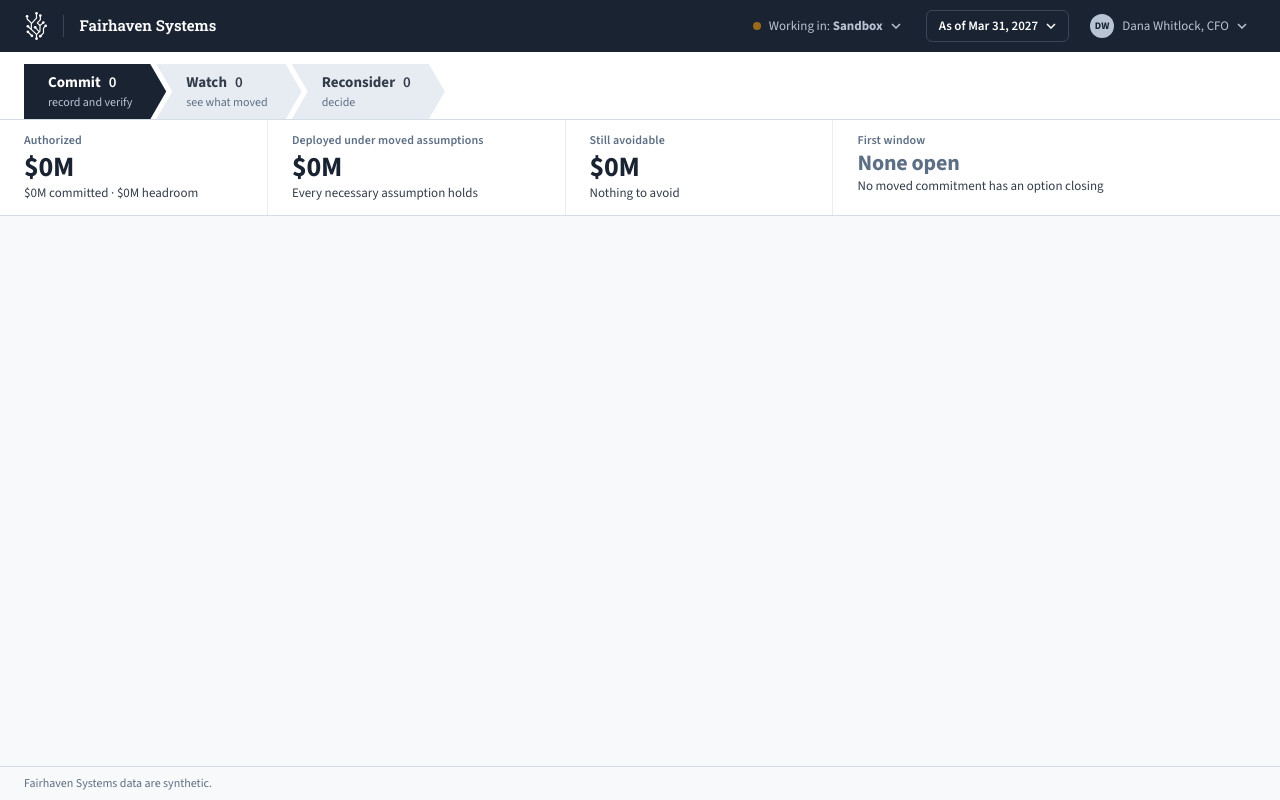
Test: a failed start over says why and keeps the menu open
Click the button "DW Dana Whitlock, CFO".
click(1171, 26)  # box [1085, 10, 1256, 42]
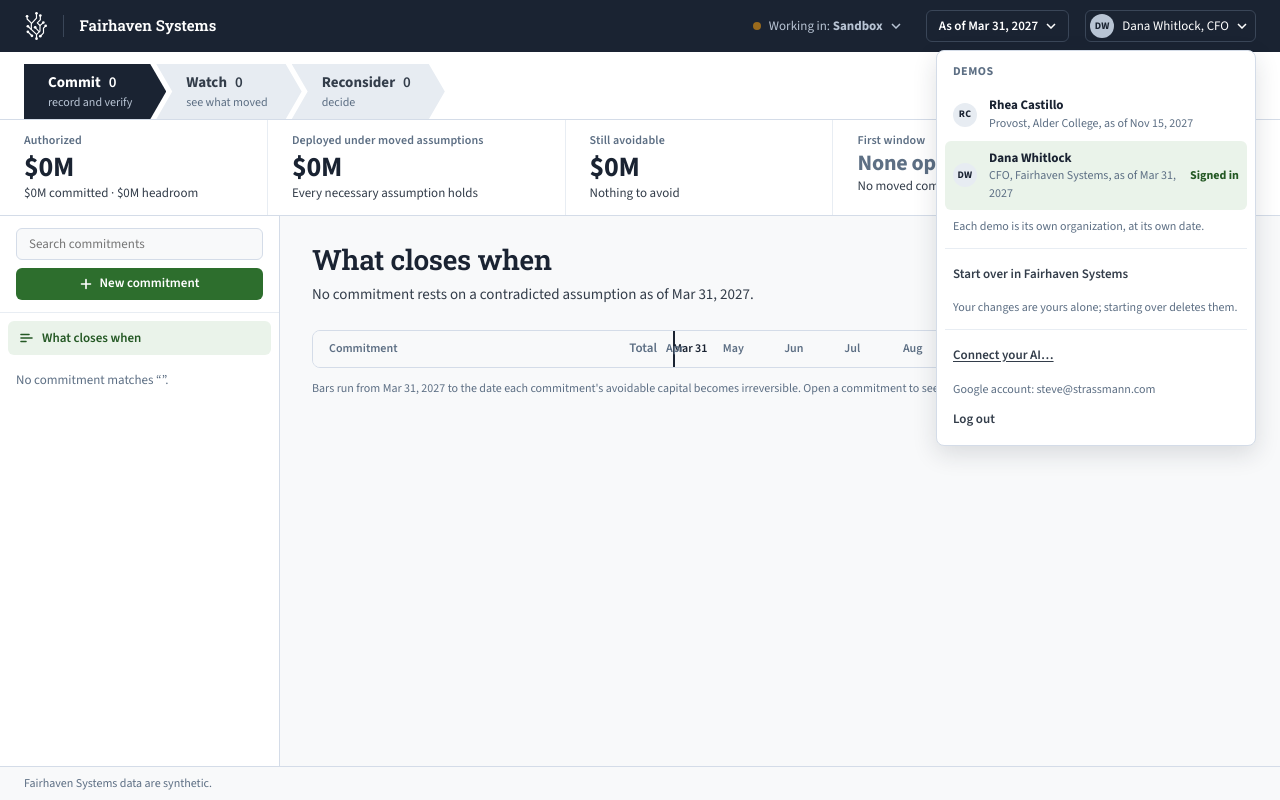
Click the button "Start over in Fairhaven Systems".
click(1096, 274)  # box [945, 257, 1247, 291]
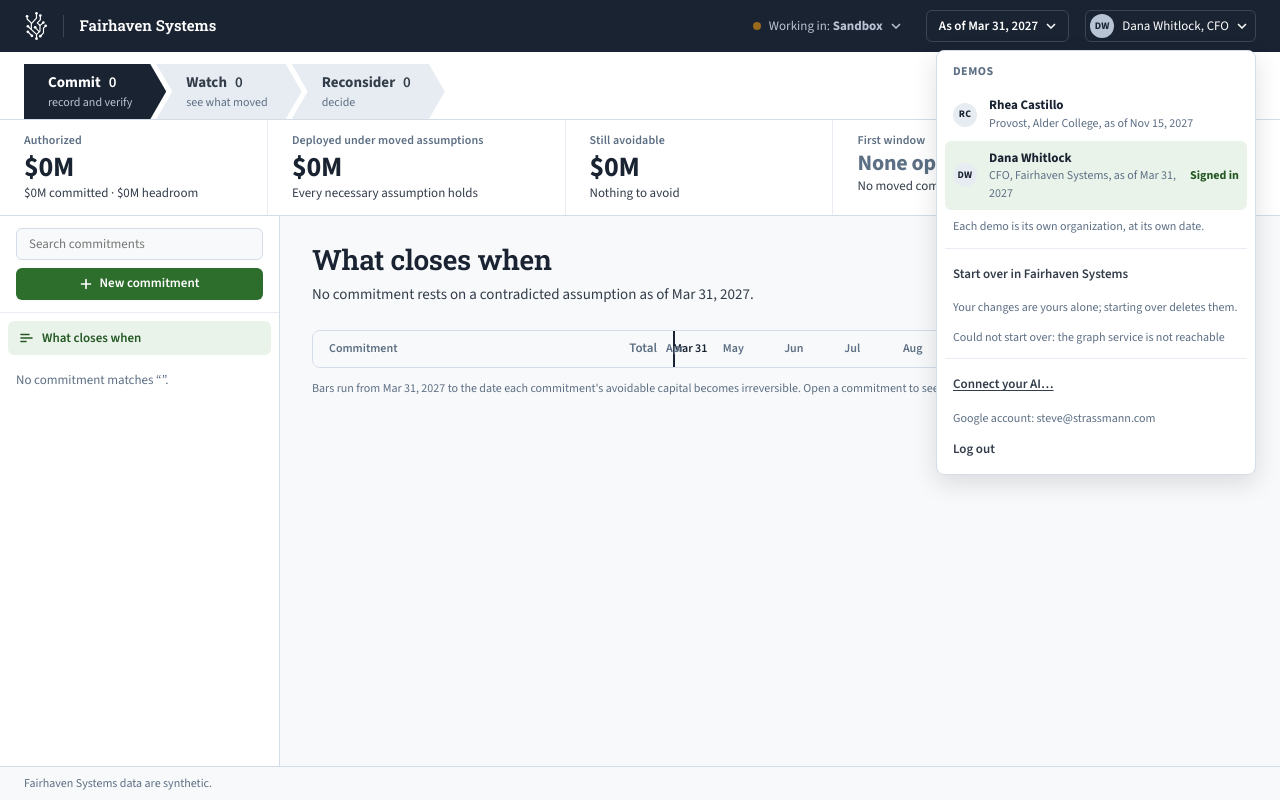
Now the element named "Your projects and demos" is shown, box [936, 50, 1256, 475]
Now the message reads "Could not start over: the graph service is not reachable", box [953, 329, 1225, 346]
